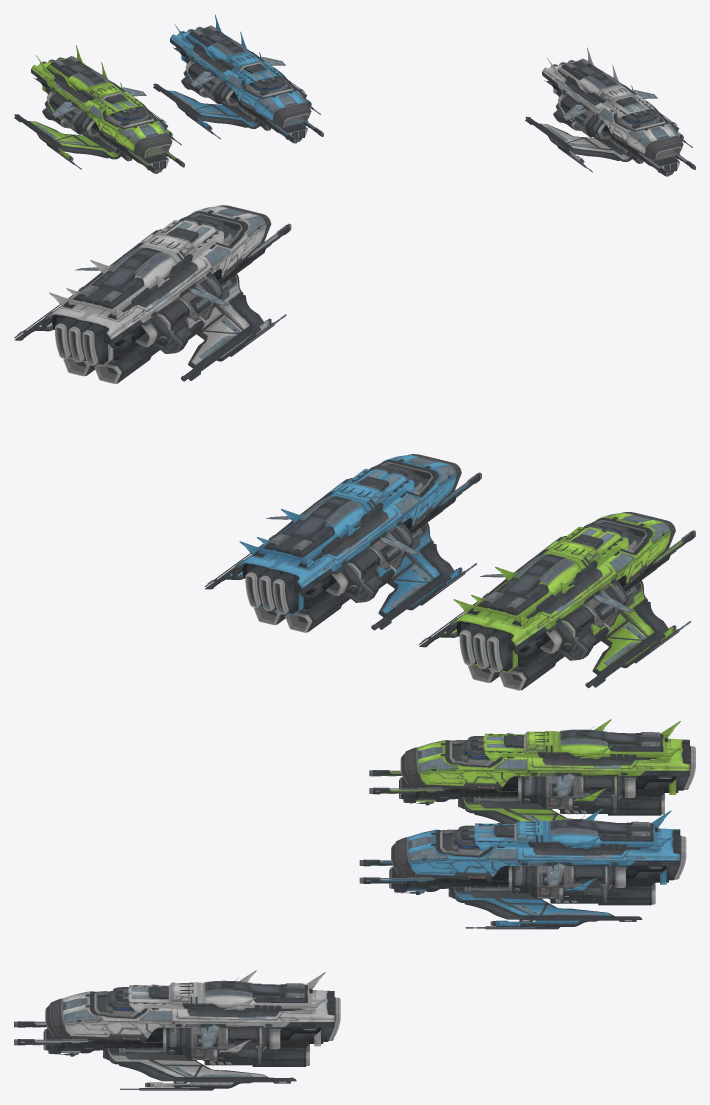
The model's file is spaceship.glb.
3 renders of one model, top to bottom at view 1: azimuth 30°, elevation 25°; view 2: azimuth 150°, elevation 25°; view 3: azimuth 270°, elevation 25°, orthographic. The views are drawn at different scales.
Visible parts, largest first — view 1: Cube.034_Spaceship_1_0, Cube.005_Spaceship_2_0, Cube.007_Spaceship_0; view 2: Cube.007_Spaceship_0, Cube.005_Spaceship_2_0, Cube.034_Spaceship_1_0; view 3: Cube.034_Spaceship_1_0, Cube.007_Spaceship_0, Cube.005_Spaceship_2_0.
Part boxes in pixels (x1,y1,x2,y2): Cube.034_Spaceship_1_0: [153, 14, 323, 143]; Cube.005_Spaceship_2_0: [14, 45, 184, 173]; Cube.007_Spaceship_0: [525, 47, 695, 176]; Cube.007_Spaceship_0: [14, 205, 291, 383]; Cube.005_Spaceship_2_0: [419, 512, 695, 690]; Cube.034_Spaceship_1_0: [205, 454, 481, 632]; Cube.034_Spaceship_1_0: [359, 809, 686, 929]; Cube.007_Spaceship_0: [14, 970, 340, 1090]; Cube.005_Spaceship_2_0: [369, 719, 695, 823].
Bounding box in the file's own units: 120 × 13.5 × 107.
3 materials, 3 textured.
